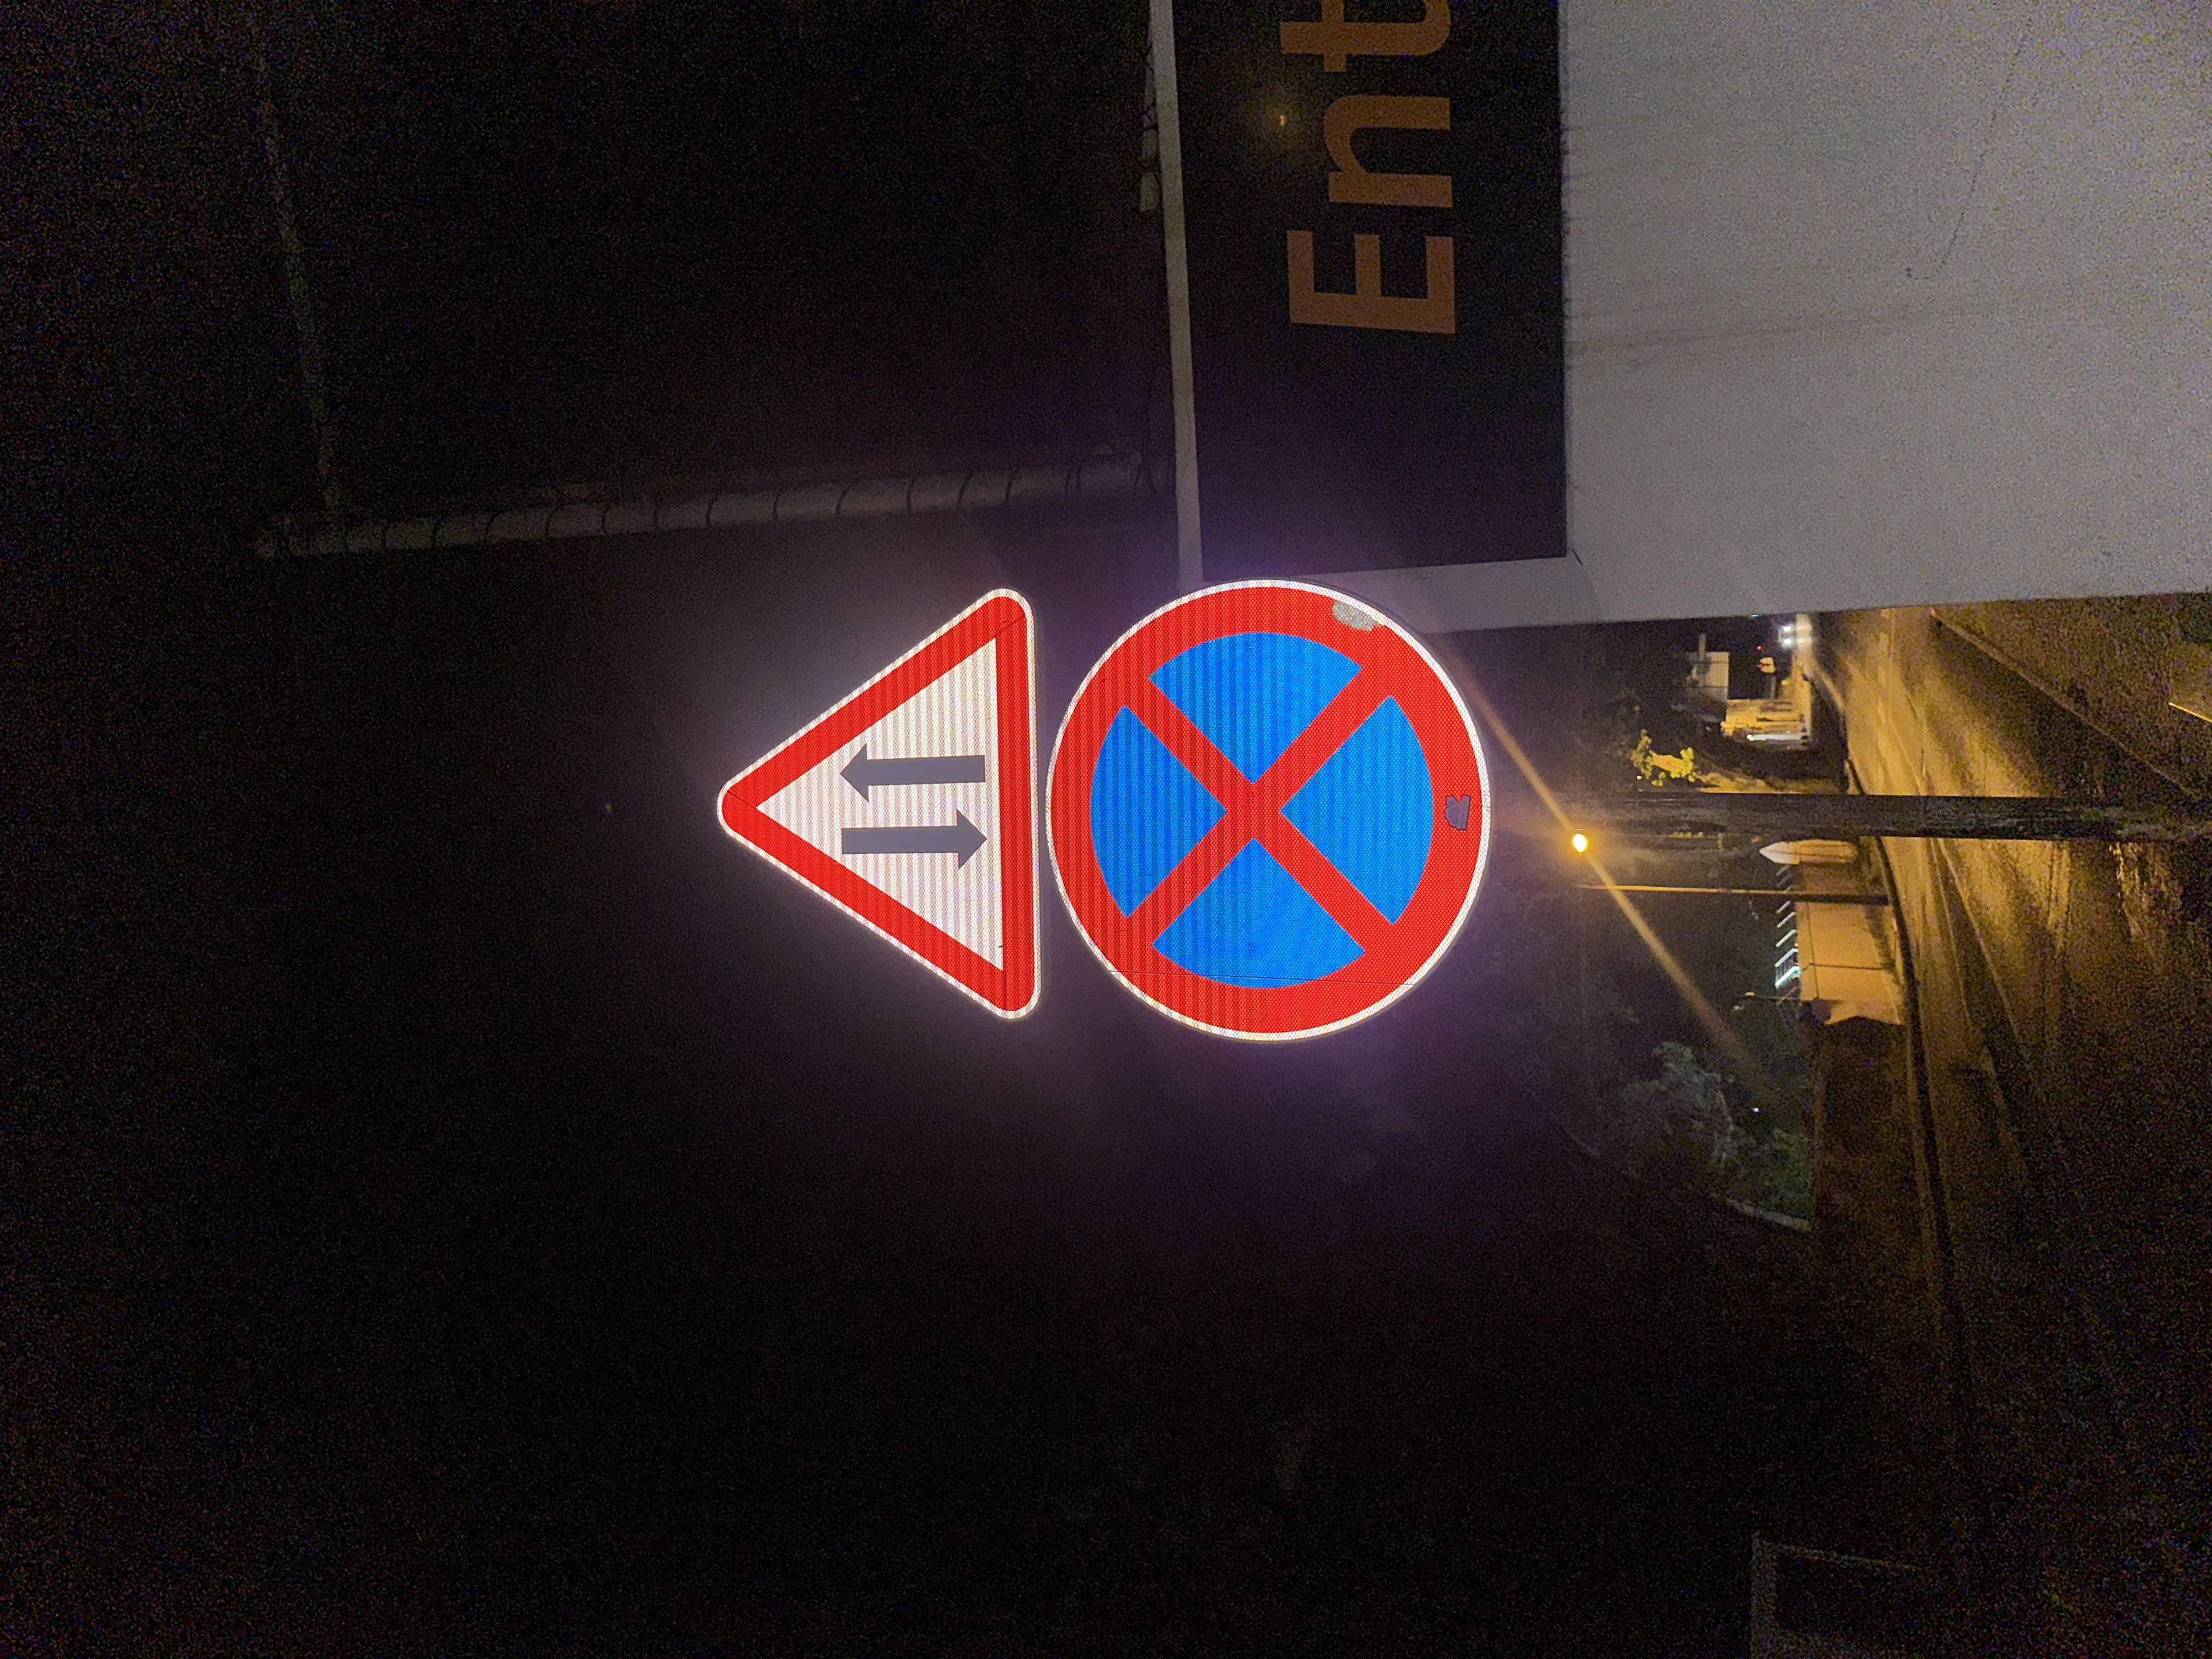Cedencia de passagem nos estreitamentos da faixa de rodagem: (819, 523, 1487, 791)
zona de paragem e estacionamneto proibido: (735, 788, 1540, 1126)
